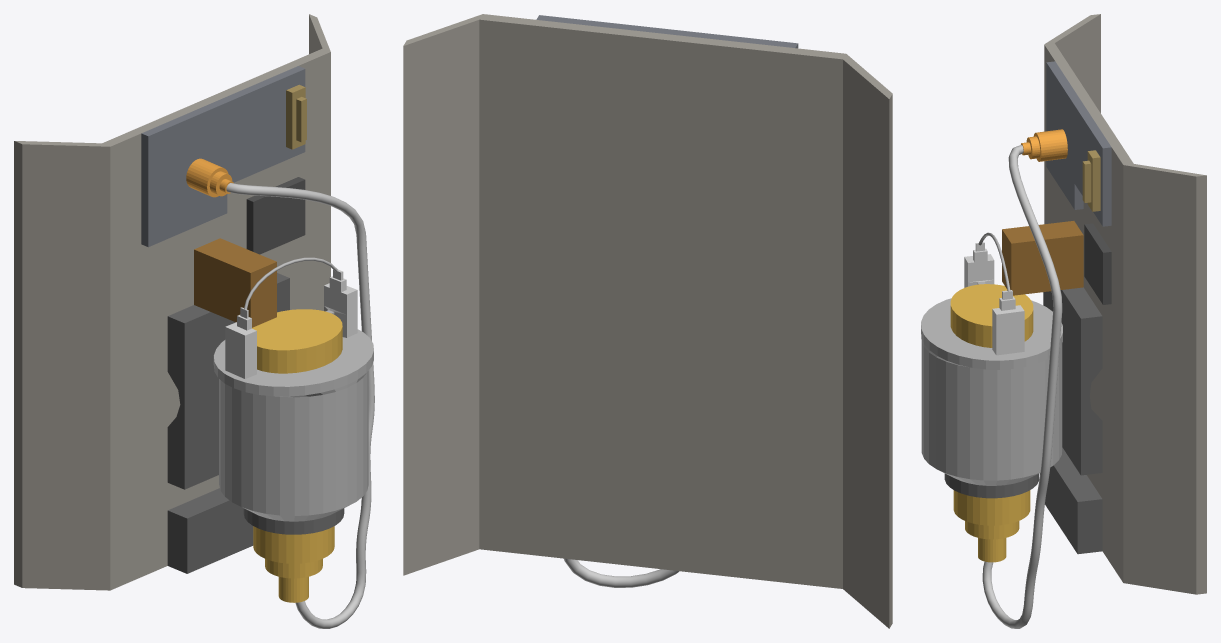
Rendered from GammaRay.gltf.
3 views of the same model, side by side, from view 1: azimuth 30°, elevation 25°; view 2: azimuth 150°, elevation 25°; view 3: azimuth 270°, elevation 25° (orthographic). The views are drawn at different scales.
Visible parts, largest first — view 1: Cube, Cylinder.004, Cylinder.002, BezierCurve.004, Cylinder.003; view 2: Cube, BezierCurve.004; view 3: Cube, Cylinder.004, Cylinder.002, BezierCurve.004, Cylinder.003.
Part boxes in pixels (bbox=[...]): Cube: bbox=[14, 14, 330, 590]; Cylinder.004: bbox=[213, 329, 373, 515]; Cylinder.002: bbox=[225, 269, 357, 602]; BezierCurve.004: bbox=[226, 183, 374, 628]; Cylinder.003: bbox=[186, 158, 233, 197]; Cube: bbox=[403, 14, 892, 628]; BezierCurve.004: bbox=[564, 558, 678, 587]; Cube: bbox=[1002, 14, 1206, 594]; Cylinder.004: bbox=[921, 298, 1062, 480]; Cylinder.002: bbox=[939, 242, 1039, 562]; BezierCurve.004: bbox=[982, 144, 1062, 628]; Cylinder.003: bbox=[1021, 129, 1067, 161].
Size of the model in its own units: 2.91 by 4.03 by 2.16.
